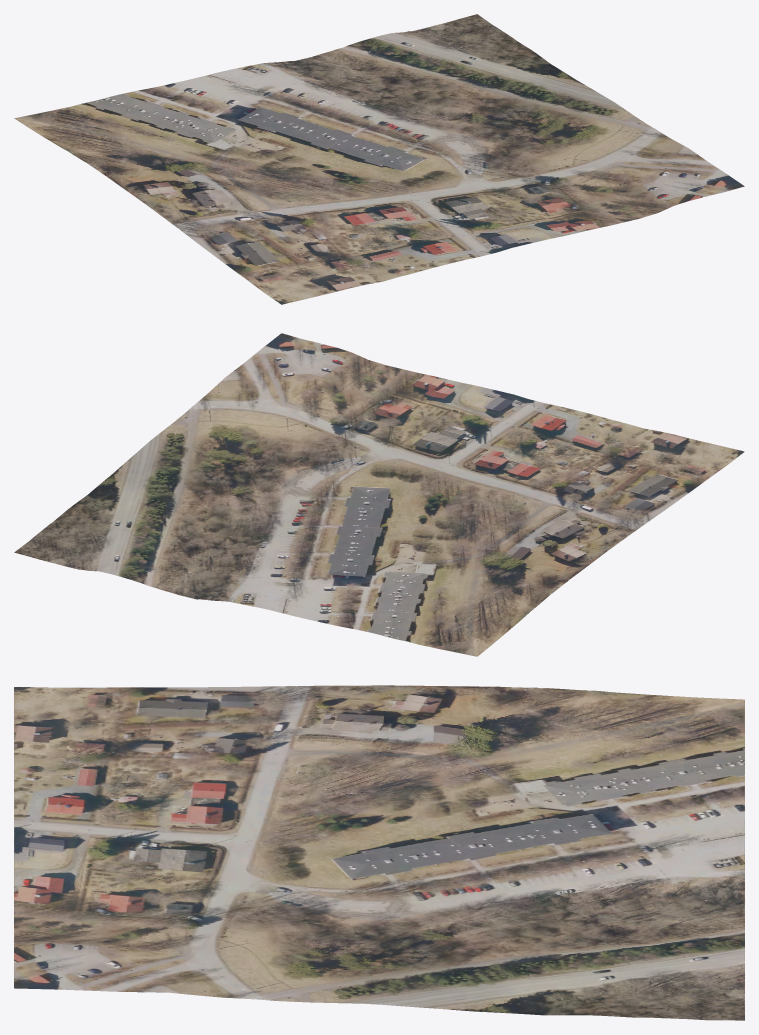
The model's file is CM_Terrain_24492302_6818360.fbx.
The picture shows the model from 3 angles, top to bottom: view 1: azimuth 30°, elevation 25°; view 2: azimuth 150°, elevation 25°; view 3: azimuth 270°, elevation 25°; orthographic projection. The views are drawn at different scales.
Parts seen in each view (by area): view 1: CM_Terrain_24492302_6818360_LOD0; view 2: CM_Terrain_24492302_6818360_LOD0; view 3: CM_Terrain_24492302_6818360_LOD0.
Boxes of the visible parts, x1=… form: CM_Terrain_24492302_6818360_LOD0: x1=14, y1=14, x2=744, y2=304; CM_Terrain_24492302_6818360_LOD0: x1=14, y1=333, x2=744, y2=656; CM_Terrain_24492302_6818360_LOD0: x1=14, y1=685, x2=744, y2=1020.
Size of what is drawn, in the model's own units: 205 by 10.95 by 205.
